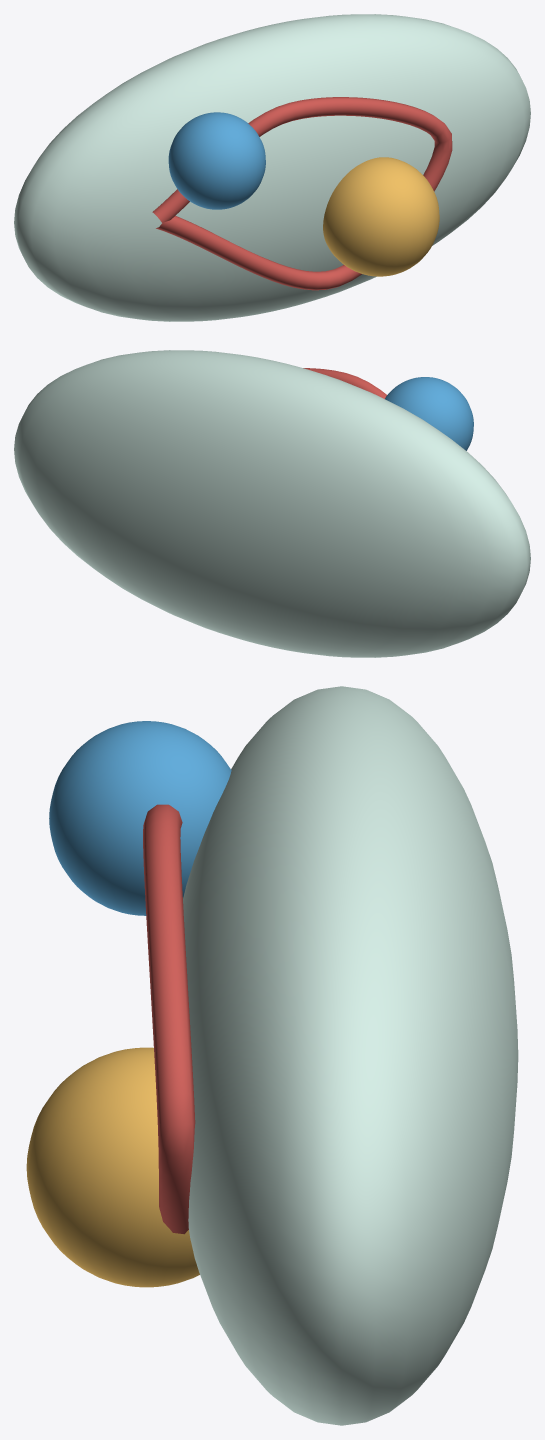
Rendered from biology-animals-body-systems.glb.
3 views of the same model, one above another, from view 1: azimuth 30°, elevation 25°; view 2: azimuth 150°, elevation 25°; view 3: azimuth 270°, elevation 25° (orthographic). The views are drawn at different scales.
Parts seen in each view (by area): view 1: animal-body-outline, digestion-energy-core, circulation-loop, gas-exchange-lungs-gills; view 2: animal-body-outline, gas-exchange-lungs-gills, circulation-loop; view 3: animal-body-outline, digestion-energy-core, gas-exchange-lungs-gills, circulation-loop.
Part boxes in pixels (x1,y1,x2,y2): animal-body-outline: (14, 14, 530, 321); digestion-energy-core: (323, 157, 439, 276); circulation-loop: (152, 97, 452, 290); gas-exchange-lungs-gills: (168, 112, 265, 209); animal-body-outline: (14, 350, 530, 657); gas-exchange-lungs-gills: (385, 377, 473, 450); circulation-loop: (303, 368, 386, 398); animal-body-outline: (183, 686, 518, 1425); digestion-energy-core: (26, 1047, 199, 1287); gas-exchange-lungs-gills: (49, 721, 231, 915); circulation-loop: (143, 804, 195, 1234).
Size of what is drawn, in the model's own units: 1.57 by 0.8064 by 0.6552.
